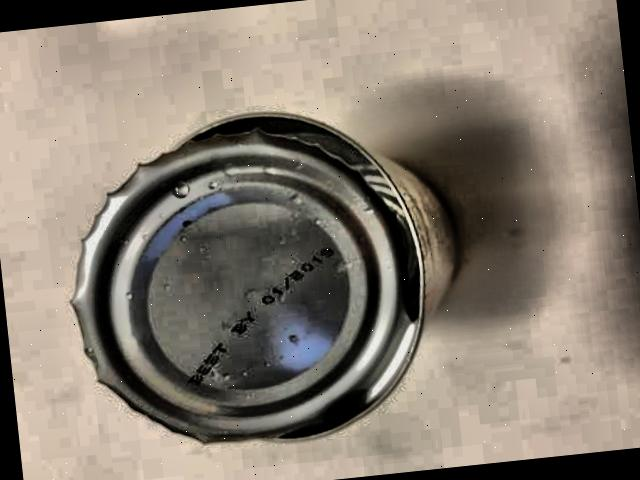Almennt: (16, 88, 488, 471)
